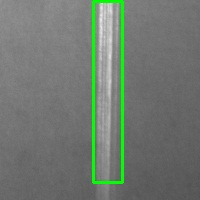scratches: (93, 1, 122, 182)
